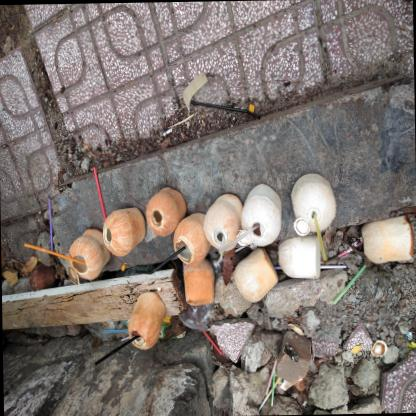Paper: (163, 127, 172, 135)
Plastic: (135, 244, 186, 273), (94, 334, 140, 364), (24, 242, 86, 264), (333, 263, 366, 303), (218, 222, 259, 253), (190, 100, 260, 118), (177, 301, 214, 330), (258, 376, 280, 410), (93, 166, 106, 220), (161, 314, 188, 339), (313, 211, 327, 259), (84, 319, 119, 338), (114, 262, 154, 276), (265, 354, 278, 394), (202, 330, 222, 354), (337, 240, 362, 256), (210, 258, 222, 291), (214, 233, 224, 266), (48, 198, 53, 250), (403, 341, 416, 356), (270, 366, 275, 404), (309, 353, 316, 372), (103, 328, 128, 332), (235, 244, 247, 251), (320, 264, 346, 267), (121, 318, 129, 325), (244, 353, 247, 371), (120, 335, 129, 340), (318, 356, 326, 361), (249, 103, 254, 111), (183, 261, 184, 286), (274, 265, 281, 268), (274, 355, 276, 362)
Waste: (183, 71, 208, 112), (406, 330, 412, 337)
